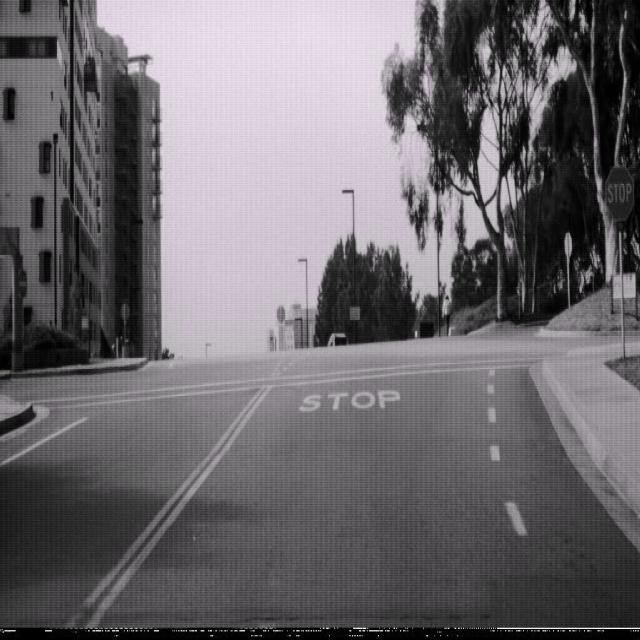stop_sign: (604, 164, 634, 221)
